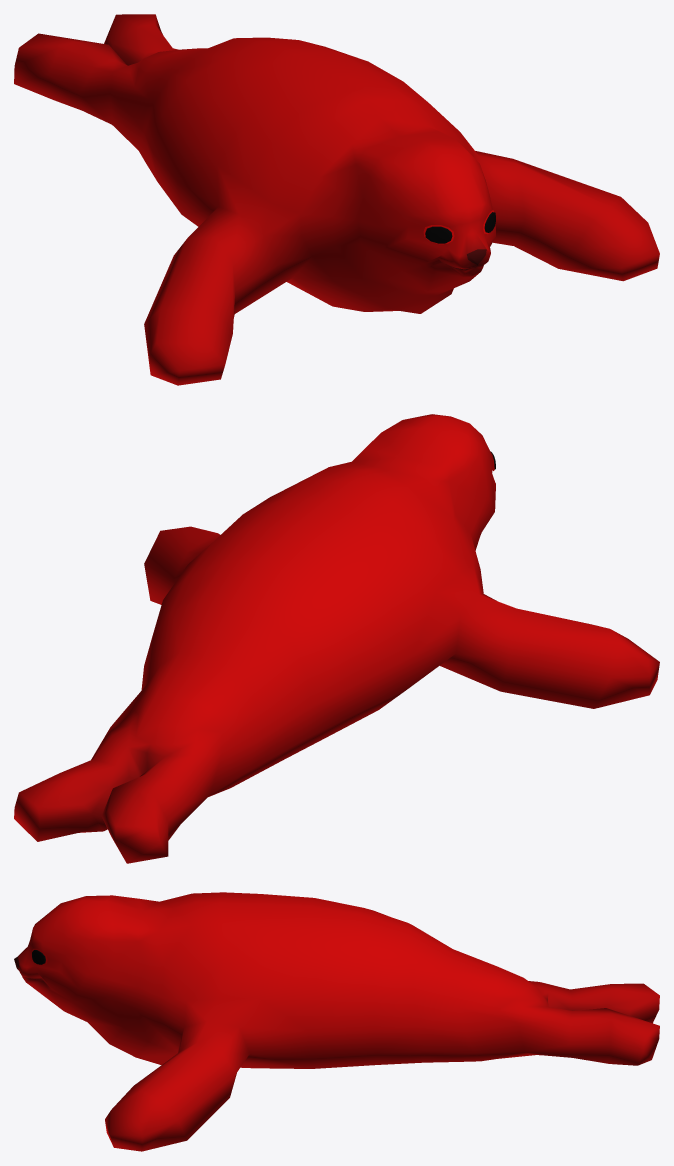
The model's file is Animals_BabySeal.fbx.
The picture shows the model from 3 angles, top to bottom: view 1: azimuth 30°, elevation 25°; view 2: azimuth 150°, elevation 25°; view 3: azimuth 270°, elevation 25°; orthographic projection. The views are drawn at different scales.
Visible parts, largest first — view 1: base; view 2: base; view 3: base.
Part boxes in pixels (bbox=[...]): base: bbox=[14, 14, 659, 385]; base: bbox=[14, 414, 659, 863]; base: bbox=[14, 892, 659, 1151].
Bounding box in the file's own units: 95.94 × 35.16 × 134.
